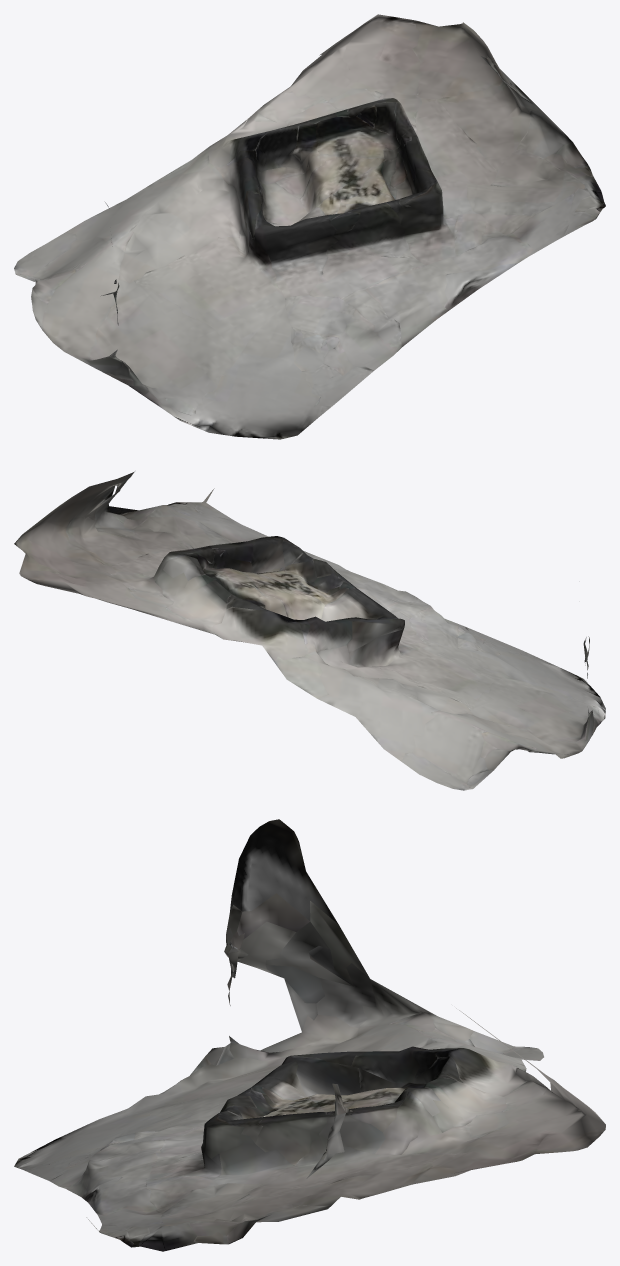
The model's file is hall.glb.
3 renders of one model, top to bottom at view 1: azimuth 30°, elevation 25°; view 2: azimuth 150°, elevation 25°; view 3: azimuth 270°, elevation 25°, orthographic. The views are drawn at different scales.
Size of the model in its own units: 0.9136 by 0.3771 by 0.7077.
1 material, 1 textured.
